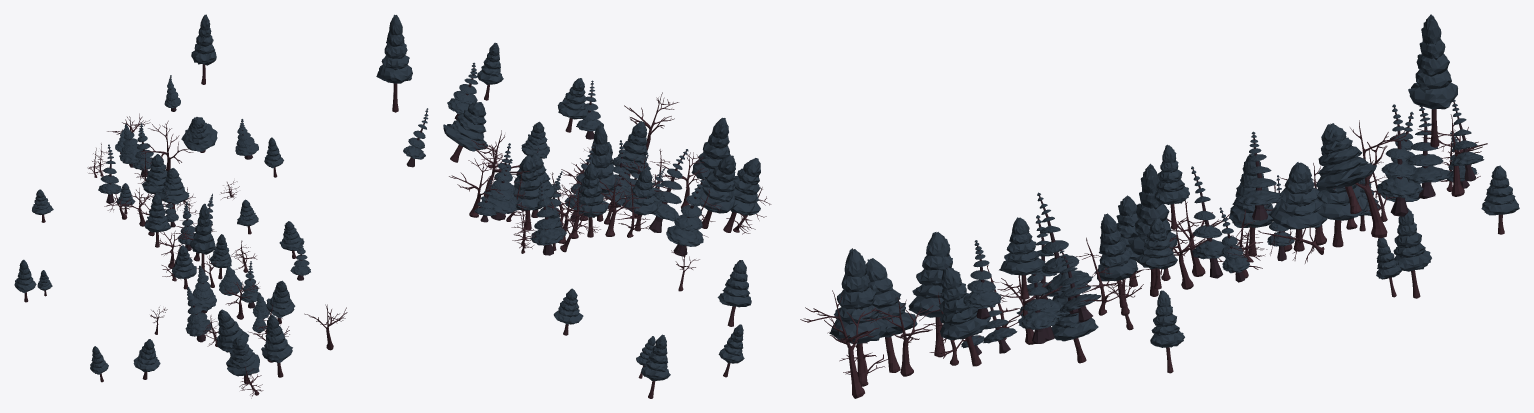
Rendered from forest2.glb.
3 views of the same model, side by side, from view 1: azimuth 30°, elevation 25°; view 2: azimuth 150°, elevation 25°; view 3: azimuth 270°, elevation 25° (orthographic). The views are drawn at different scales.
Parts seen in each view (by area): view 1: tree4.005, tree4.007, tree4.017, tree4.018, tree4.002, tree2.024, tree4.006, tree4.010, tree4, tree4.009, tree4.001, tree2.021 (+20 smaller); view 2: tree4.006, tree4.018, tree4.017, tree2.024, tree4.007, tree4.001, tree4, tree4.005, tree2.021, tree2.023, tree4.002, tree4.011 (+22 smaller); view 3: tree4.005, tree4.018, tree4.017, tree4.009, tree4.006, tree4.010, tree4.007, tree4.002, tree2.015, tree4.004, tree4.016, tree2.021 (+23 smaller).
Boxes of the visible parts, box(x1,y1,x2,y2) form: tree4.005: box(261, 314, 292, 377); tree4.007: box(226, 337, 259, 383); tree4.017: box(181, 117, 217, 152); tree4.018: box(191, 14, 216, 84); tree4.002: box(190, 203, 215, 272); tree2.024: box(185, 286, 211, 342); tree4.006: box(216, 309, 249, 352); tree4.010: box(266, 280, 295, 324); tree4: box(144, 193, 171, 247); tree4.009: box(159, 168, 189, 213); tree4.001: box(142, 154, 167, 194); tree2.021: box(191, 265, 216, 313); tree4.006: box(695, 155, 737, 228); tree4.018: box(376, 14, 412, 112); tree4.017: box(443, 102, 487, 162); tree2.024: box(666, 177, 705, 256); tree4.007: box(723, 158, 760, 232); tree4.001: box(513, 155, 549, 229); tree4: box(572, 162, 608, 237); tree4.005: box(691, 117, 730, 180); tree2.021: box(648, 149, 688, 232); tree2.023: box(530, 181, 563, 255); tree4.002: box(590, 124, 617, 221); tree4.011: box(717, 260, 751, 326); tree4.005: box(829, 248, 888, 384); tree4.018: box(1408, 14, 1457, 147); tree4.017: box(1316, 123, 1376, 213); tree4.009: box(1268, 162, 1327, 251); tree4.006: box(908, 232, 959, 357); tree4.010: box(939, 267, 990, 366); tree4.007: box(866, 258, 917, 372); tree4.002: box(1127, 163, 1177, 296); tree2.015: box(1377, 104, 1423, 215); tree4.004: box(1095, 213, 1138, 307); tree4.016: box(999, 217, 1045, 299); tree2.021: box(1037, 192, 1092, 314).
Size of the model in its own units: 67.35 by 86.03 by 108.
Materials: 1 (1 with a texture image).
